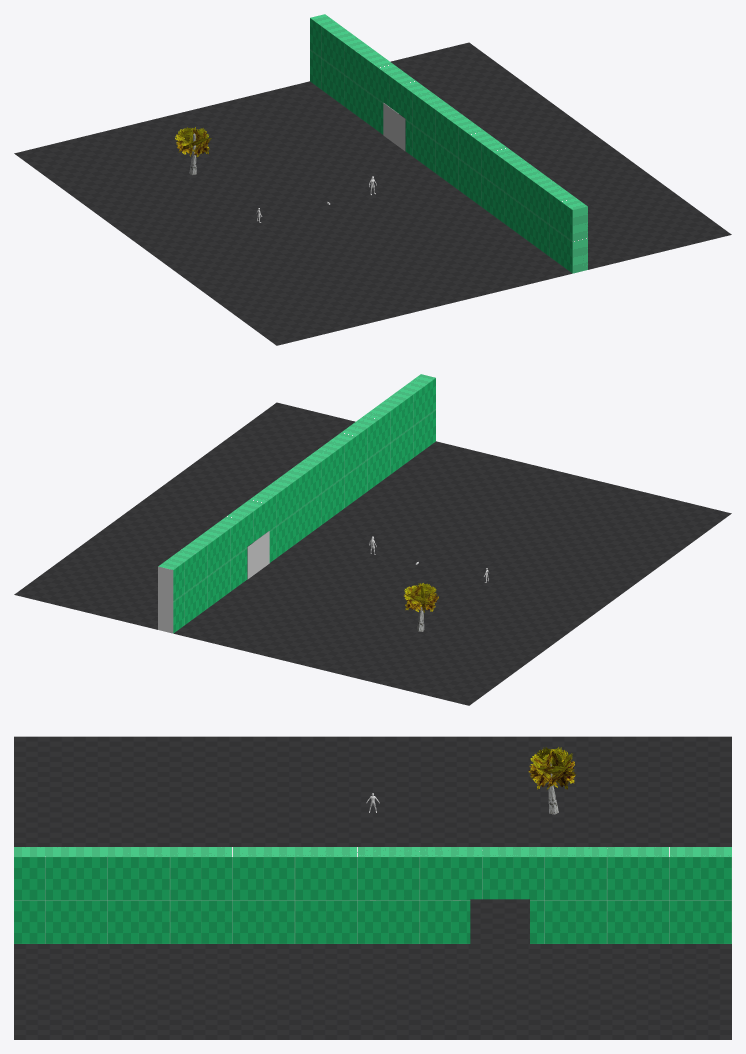
The model's file is MAP TEST 1.glb.
3 renders of one model, top to bottom at view 1: azimuth 30°, elevation 25°; view 2: azimuth 150°, elevation 25°; view 3: azimuth 270°, elevation 25°, orthographic. The views are drawn at different scales.
Parts seen in each view (by area): view 1: Floor, Beeg Wall, Birch Tree, Lift Door; view 2: Floor, Beeg Wall, Birch Tree, Lift Door; view 3: Floor, Beeg Wall, Birch Tree.
Part boxes in pixels (left/top/right/bottom): Floor: left=14, top=42, right=731, bottom=345; Beeg Wall: left=310, top=14, right=587, bottom=273; Birch Tree: left=175, top=127, right=211, bottom=175; Lift Door: left=383, top=103, right=405, bottom=150; Floor: left=14, top=402, right=731, bottom=705; Beeg Wall: left=158, top=374, right=435, bottom=633; Birch Tree: left=403, top=583, right=438, bottom=631; Lift Door: left=247, top=531, right=269, bottom=579; Floor: left=14, top=736, right=731, bottom=1039; Beeg Wall: left=14, top=847, right=731, bottom=943; Birch Tree: left=528, top=747, right=576, bottom=814.
Size of what is drawn, in the model's own units: 60 by 8.2 by 60.
6 materials, 4 textured.
